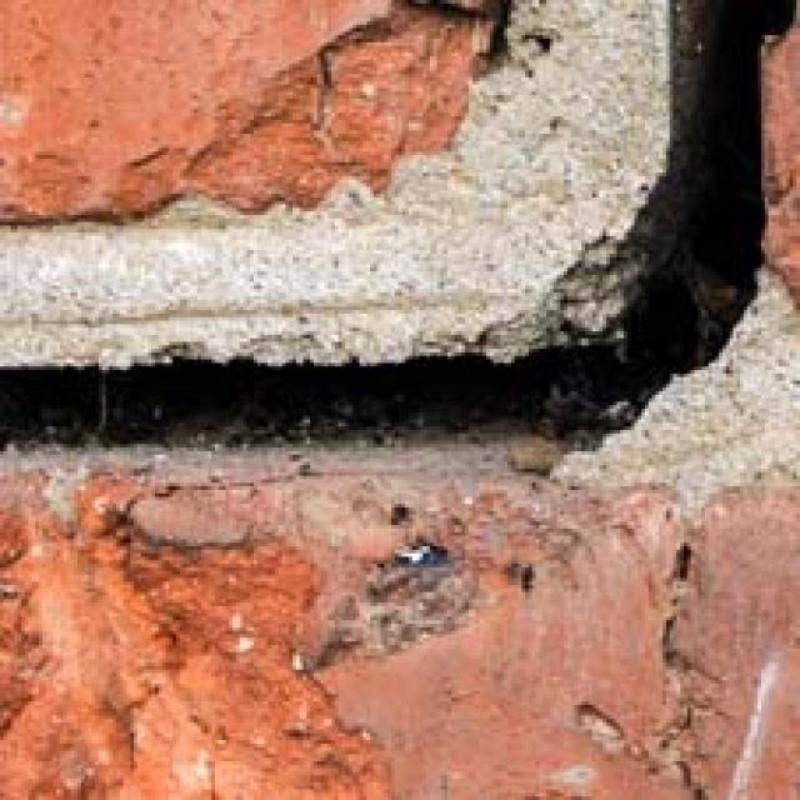pothole: (0, 0, 762, 442)
